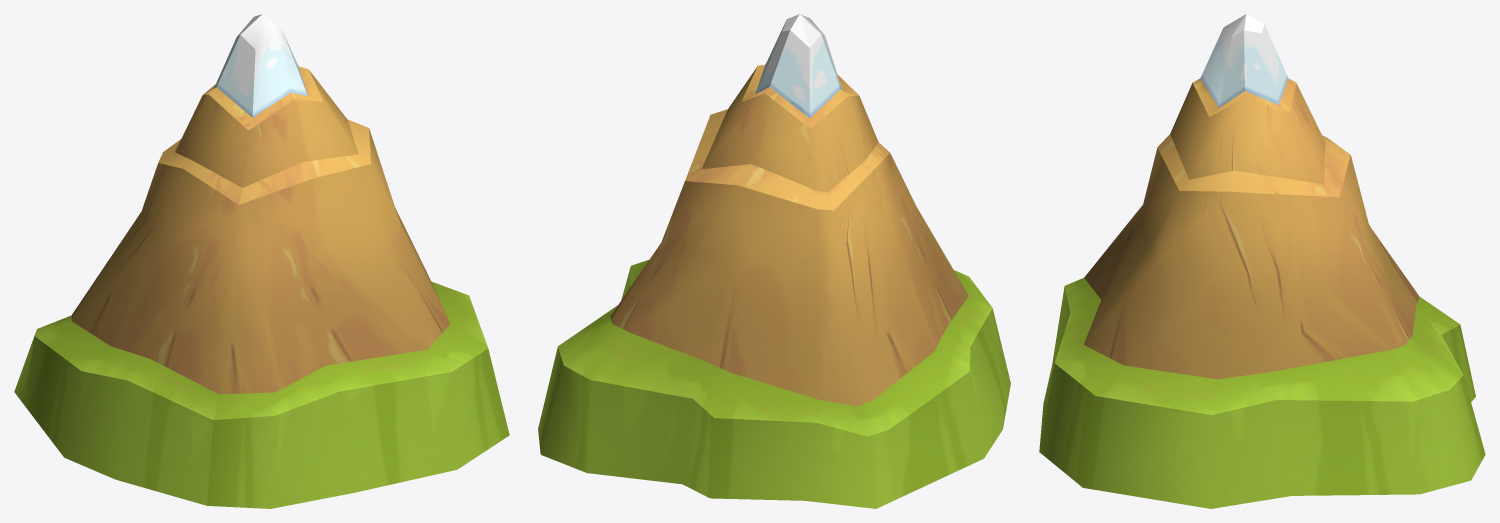
The model's file is generic_model_mountain_large_snowPeak.fbx.
3 views of the same model, side by side, from view 1: azimuth 30°, elevation 25°; view 2: azimuth 150°, elevation 25°; view 3: azimuth 270°, elevation 25° (orthographic).
Visible parts, largest first — view 1: generic_model_mountain_large_snowPeak; view 2: generic_model_mountain_large_snowPeak; view 3: generic_model_mountain_large_snowPeak.
Boxes of the visible parts, x1,y1,x2,y2 form: generic_model_mountain_large_snowPeak: (14, 14, 509, 508); generic_model_mountain_large_snowPeak: (538, 14, 1010, 508); generic_model_mountain_large_snowPeak: (1039, 14, 1485, 508).
Size of the model in its own units: 9.52 by 9.09 by 9.31.
